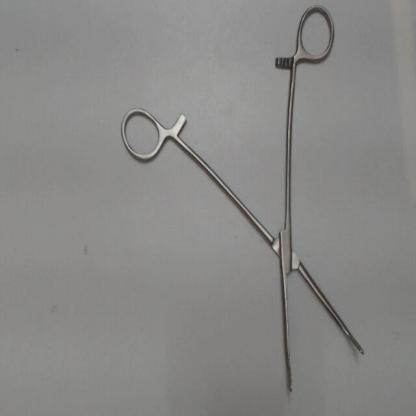Lahey Forceps: (117, 1, 380, 397)
